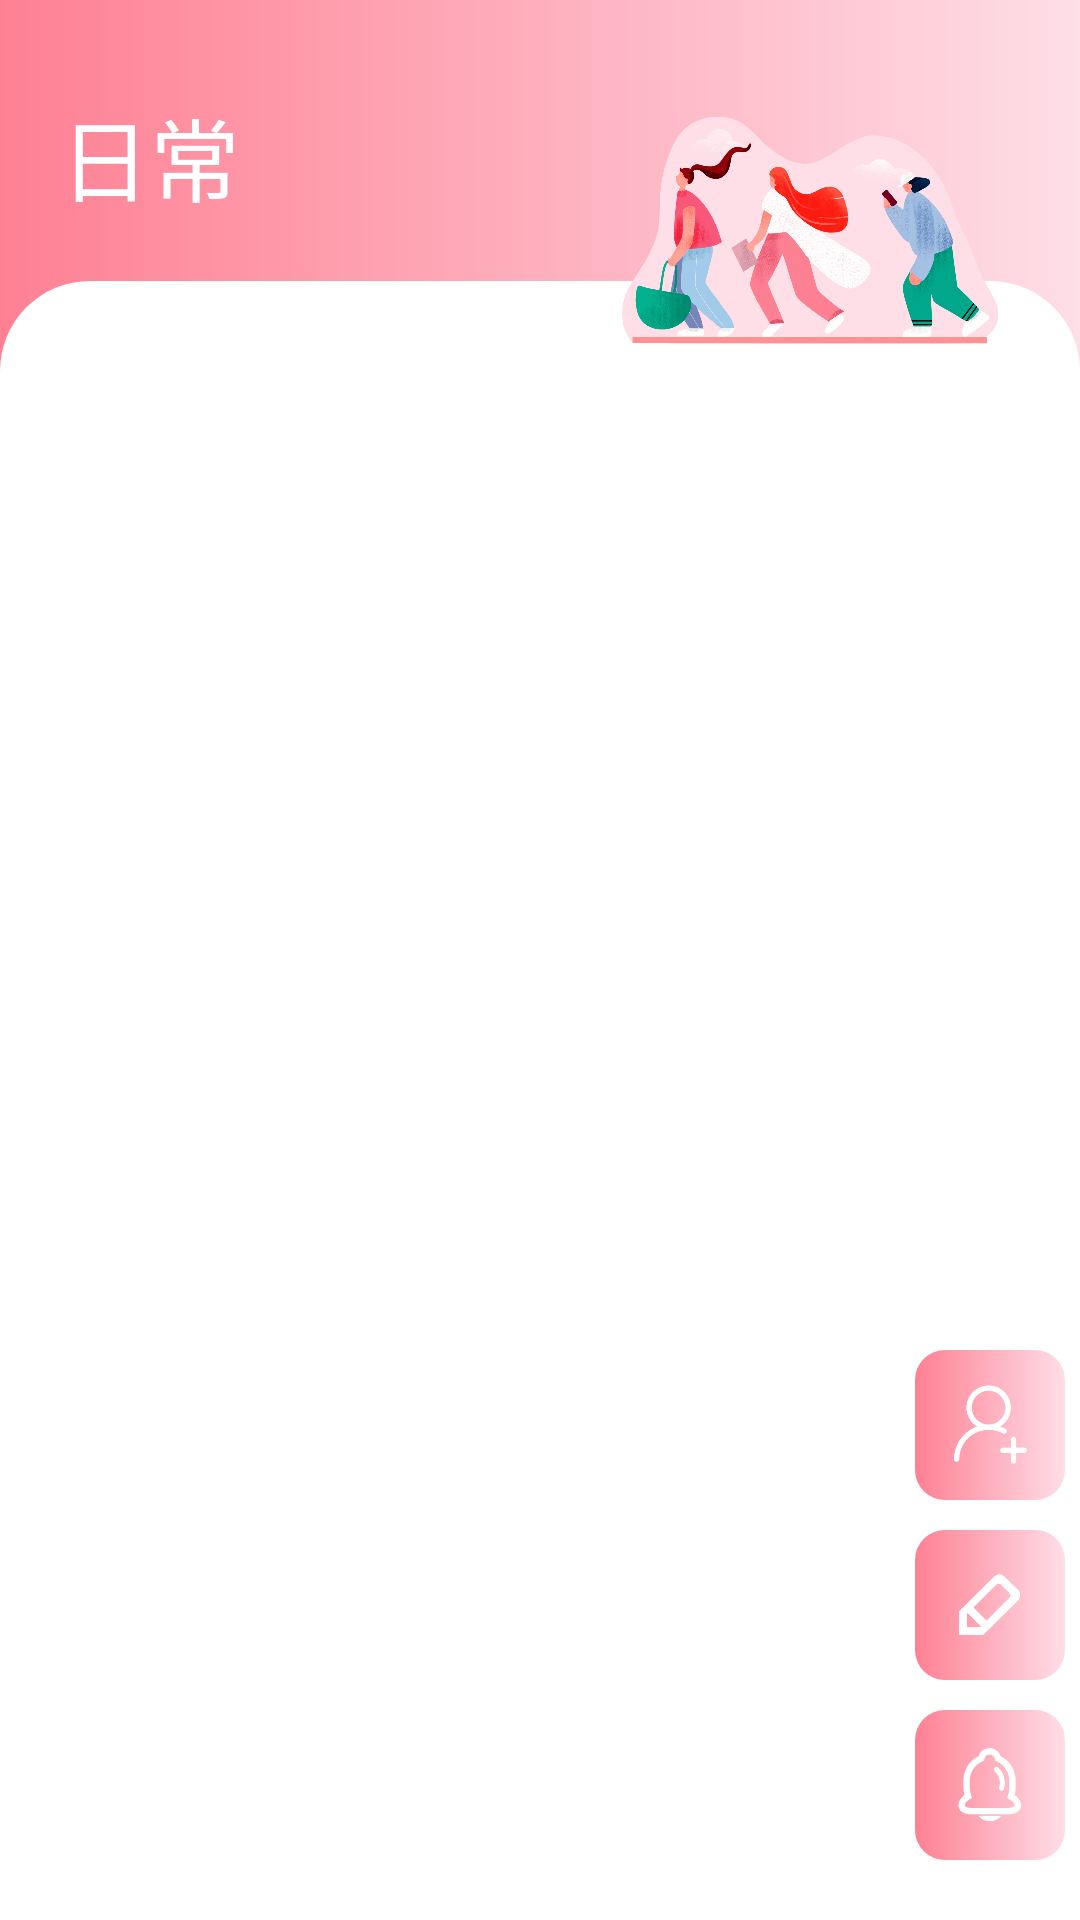

Point at icon controls on the screen. Image size 1080px×1920px, points as point (x, y).
add: point (989, 1424)
editt: point (989, 1604)
notif: point (990, 1785)
